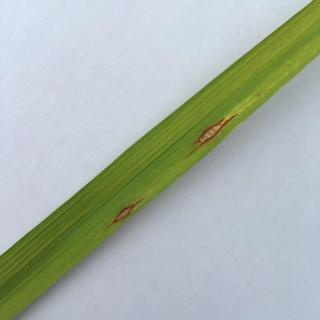Blast: (182, 107, 244, 155), (101, 189, 146, 229)
